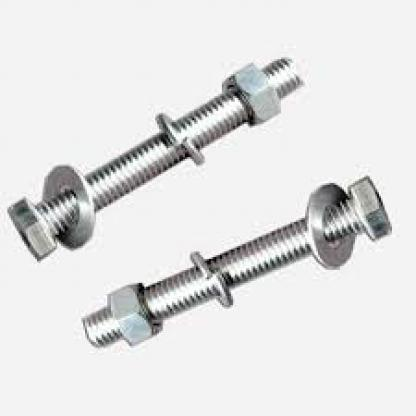METAL: (6, 53, 303, 258), (81, 175, 390, 356), (42, 163, 92, 253), (305, 179, 351, 272), (218, 59, 279, 124), (106, 281, 158, 342), (155, 109, 202, 163), (187, 253, 231, 309)
